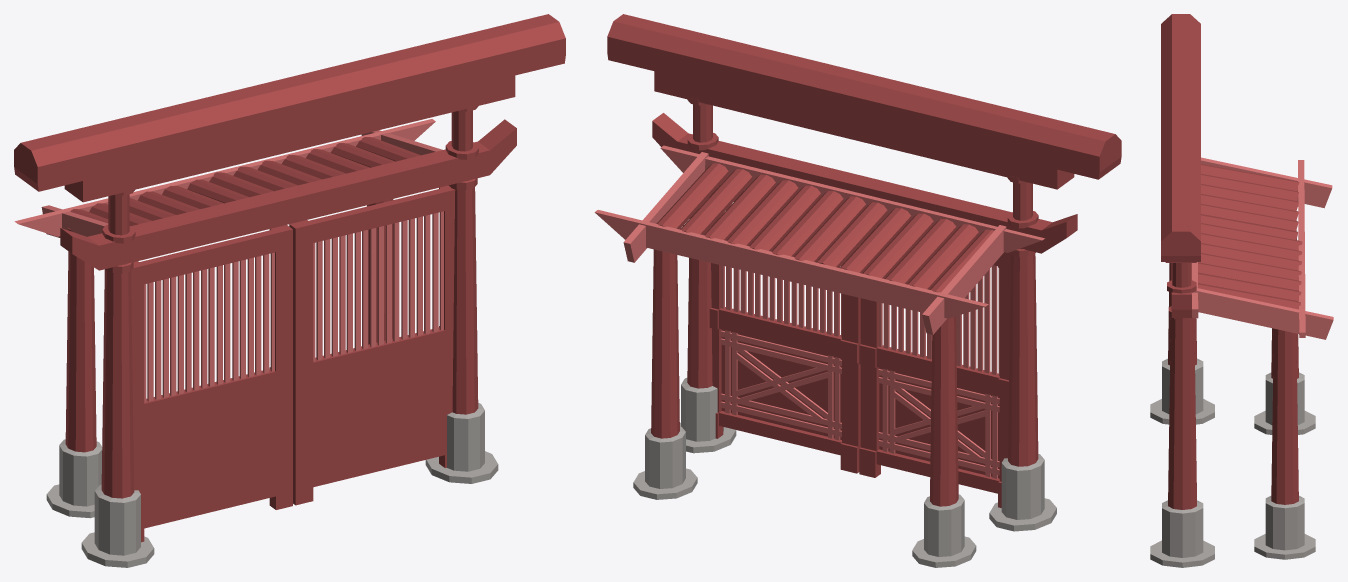
The model's file is ER_Asset_Gate_noFence.fbx.
The picture shows the model from 3 angles, left to right: view 1: azimuth 30°, elevation 25°; view 2: azimuth 150°, elevation 25°; view 3: azimuth 270°, elevation 25°; orthographic projection. The views are drawn at different scales.
Parts seen in each view (by area): view 1: polySurface4128, pCube710, pCube711; view 2: polySurface4128, pCube710, pCube711; view 3: polySurface4128.
Boxes of the visible parts, bbox=[...] form: polySurface4128: bbox=[14, 14, 565, 567]; pCube710: bbox=[289, 185, 455, 505]; pCube711: bbox=[131, 225, 292, 542]; polySurface4128: bbox=[594, 14, 1121, 567]; pCube710: bbox=[709, 185, 860, 473]; pCube711: bbox=[859, 223, 1010, 507]; polySurface4128: bbox=[1150, 14, 1333, 567].
Bounding box in the file's own units: 6.24 × 4.85 × 2.23.
